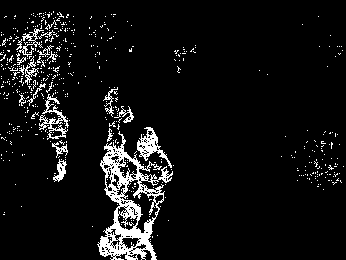person: (134, 126, 175, 230), (99, 200, 160, 260), (104, 135, 137, 219), (40, 97, 69, 184)
